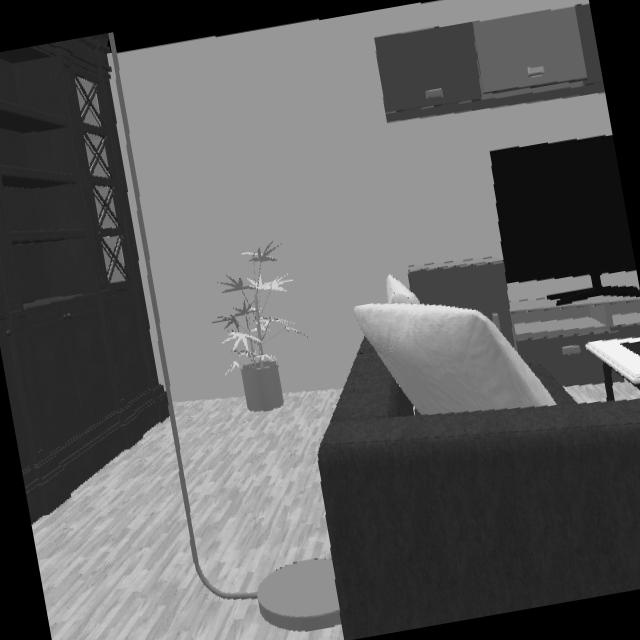bookshelf: (0, 33, 168, 520)
cabinet: (409, 259, 640, 385), (375, 4, 603, 122)
monitor: (490, 136, 640, 303)
pillow: (354, 302, 554, 414), (387, 277, 418, 303)
table: (585, 336, 640, 401)
